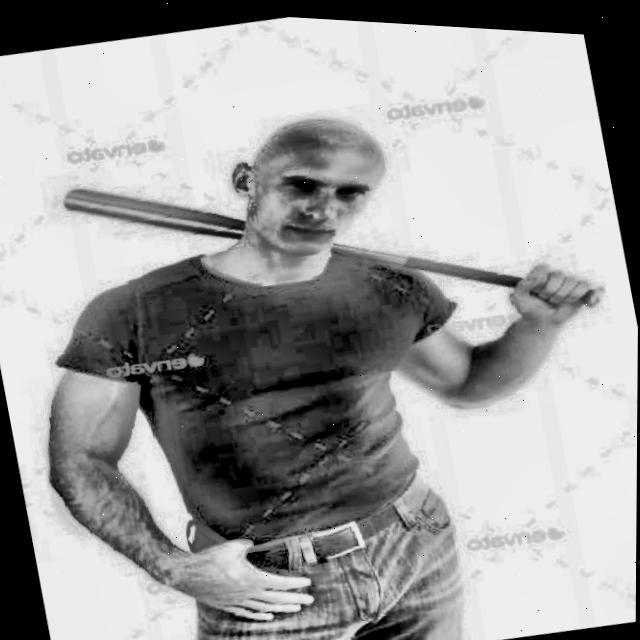tongkat pemukul: (48, 183, 609, 322)
